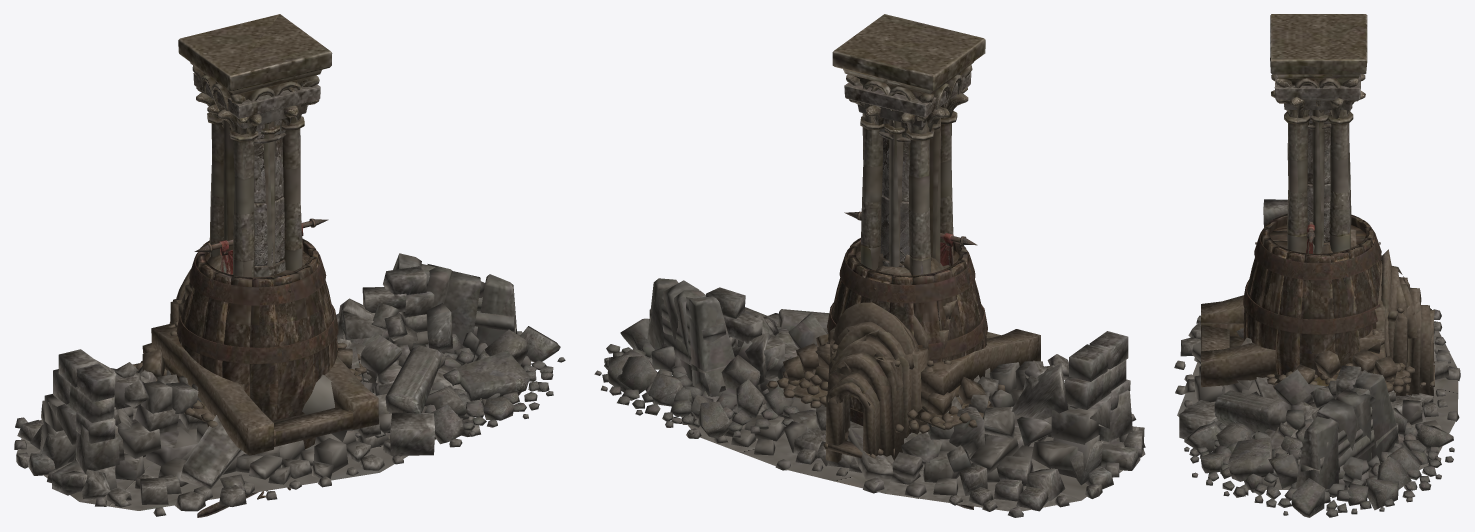
File: wild.glb
3 renders of one model, left to right at view 1: azimuth 30°, elevation 25°; view 2: azimuth 150°, elevation 25°; view 3: azimuth 270°, elevation 25°, orthographic. The views are drawn at different scales.
Visible parts, largest first — view 1: d_rubble_large, d_rubble_half, h_pillar, d_barrel_large, p_entrance, d_pillar, p_banner; view 2: d_rubble_large, p_entrance, h_pillar, d_rubble_half, d_barrel_large, d_pillar, p_banner; view 3: d_rubble_half, d_barrel_large, h_pillar, p_entrance, d_rubble_large, d_pillar.
Part boxes in pixels (box(x1,y1,x2,y2)): d_rubble_large: box(14, 266, 503, 516); d_rubble_half: box(336, 253, 565, 444); h_pillar: box(178, 14, 332, 277); d_barrel_large: box(176, 238, 338, 454); p_entrance: box(132, 255, 378, 455); d_pillar: box(193, 73, 320, 277); p_banner: box(194, 218, 328, 274); d_rubble_large: box(681, 287, 1145, 517); p_entrance: box(766, 253, 1040, 462); h_pillar: box(824, 14, 985, 406); d_rubble_half: box(594, 278, 829, 438); d_barrel_large: box(827, 238, 987, 425); d_pillar: box(844, 72, 971, 267); p_banner: box(844, 211, 977, 266); d_rubble_half: box(1184, 369, 1454, 517); d_barrel_large: box(1243, 213, 1381, 376); h_pillar: box(1270, 14, 1367, 253); p_entrance: box(1201, 228, 1434, 397); d_rubble_large: box(1174, 199, 1460, 492); d_pillar: box(1274, 74, 1360, 253).
Size of the model in its own units: 6.07 by 5.19 by 3.18.
Materials: 16 (16 with a texture image).
